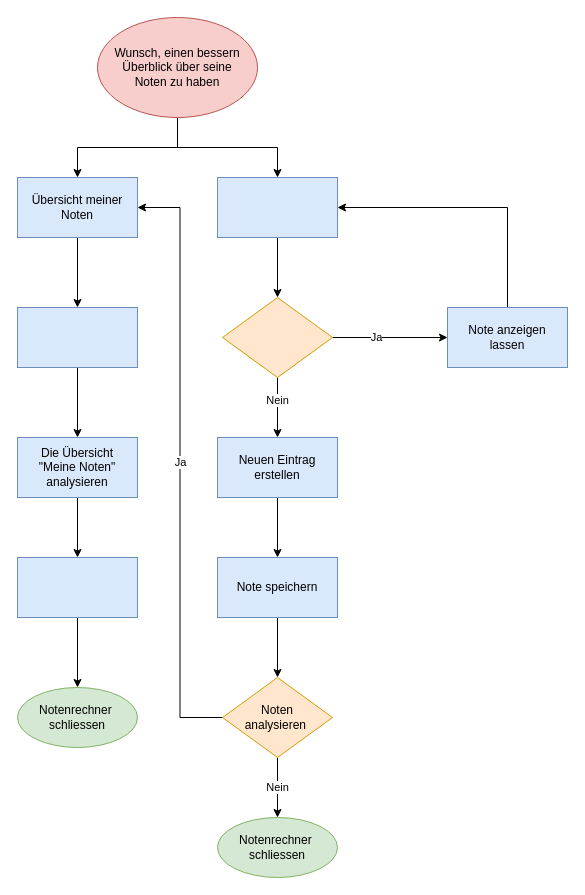
This 585x895 diagram has some shape labels left out. The centre of each missing label's shape, as x and y in pixels:
"Module / Noten wenn nötig filtern" belongs at (77,337).
"Neue Noten für ein Modul erhalten" belongs at (277,207).
"Note bereits im Tool" belongs at (277,337).
"Wenn nötig Massnahmen treffen" belongs at (77,587).
